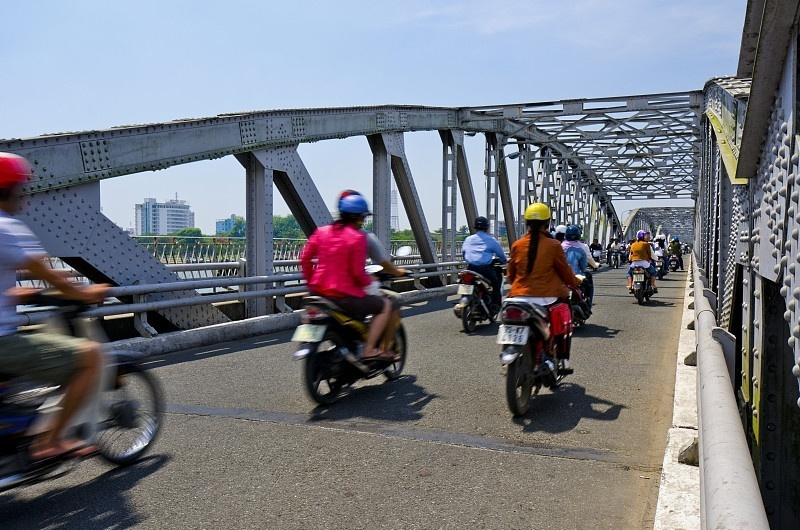non-vehicle: (0, 277, 164, 527), (292, 271, 409, 407), (496, 281, 572, 412), (452, 257, 501, 330), (567, 264, 591, 326), (628, 259, 656, 303)
